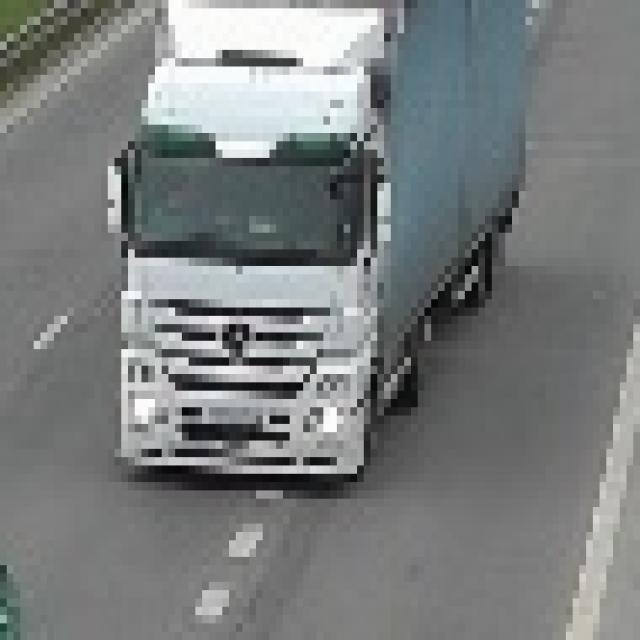TRUCK: (111, 0, 528, 494)
